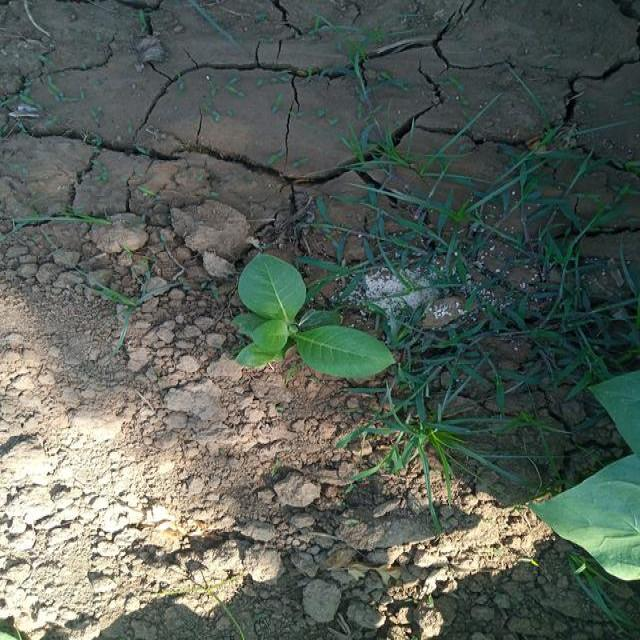crop: (231, 247, 395, 382)
